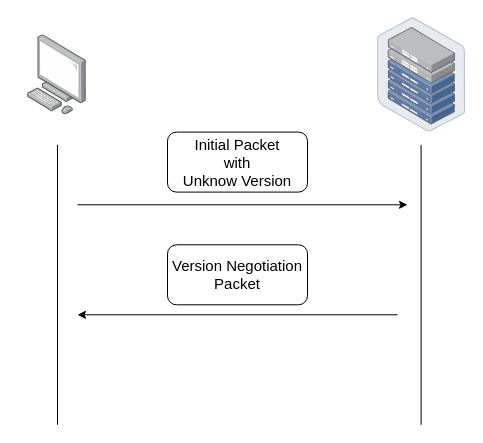
Some shapes in this 483 by 443 pixel diagram are drawn without their labels. Each missing label, with the centre of its shape:
"QUIC Client" goes at (x=56, y=74).
"QUIC Server" goes at (x=421, y=74).
